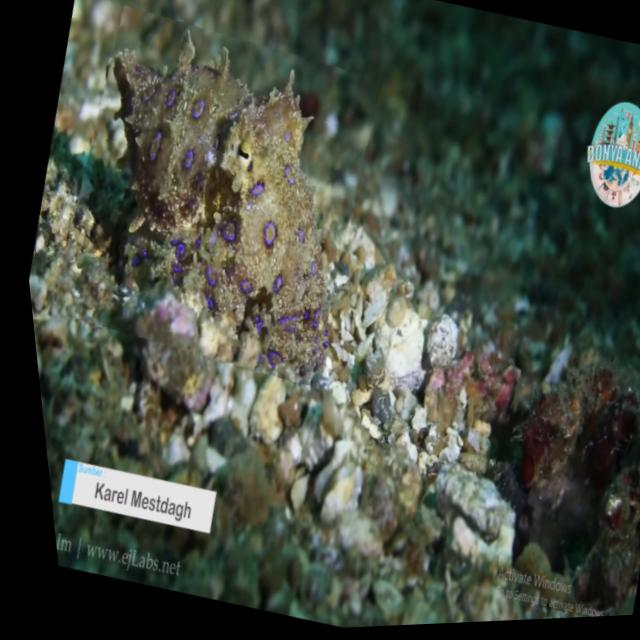blue_ringed_octopus: (21, 0, 403, 398)
